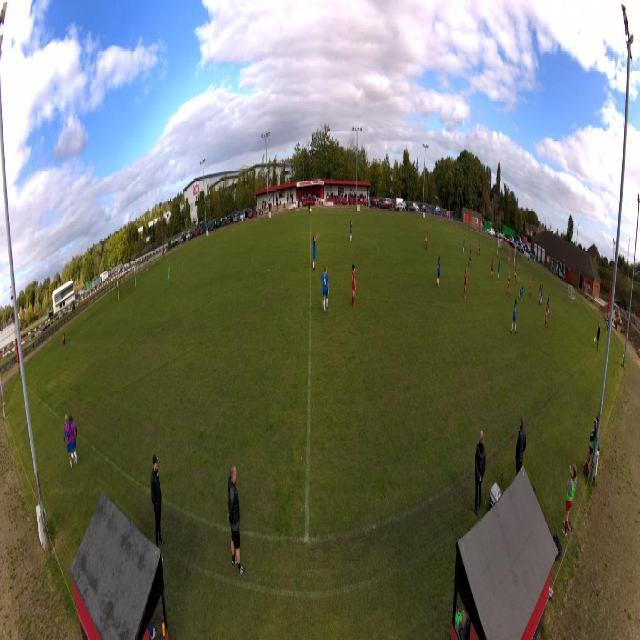ball: (518, 277, 520, 281)
player: (320, 266, 329, 315), (312, 230, 321, 271), (510, 297, 517, 336), (351, 263, 356, 310), (463, 266, 469, 300), (436, 255, 441, 289), (506, 270, 511, 298), (467, 244, 472, 269), (167, 259, 171, 290), (544, 300, 548, 329), (498, 257, 502, 283), (540, 283, 544, 307), (528, 274, 532, 298), (519, 285, 524, 303), (514, 264, 518, 286), (538, 285, 542, 307), (462, 235, 466, 255), (547, 292, 550, 318), (350, 219, 353, 243), (490, 257, 493, 281), (425, 229, 428, 251), (478, 241, 481, 260), (508, 251, 511, 267)
